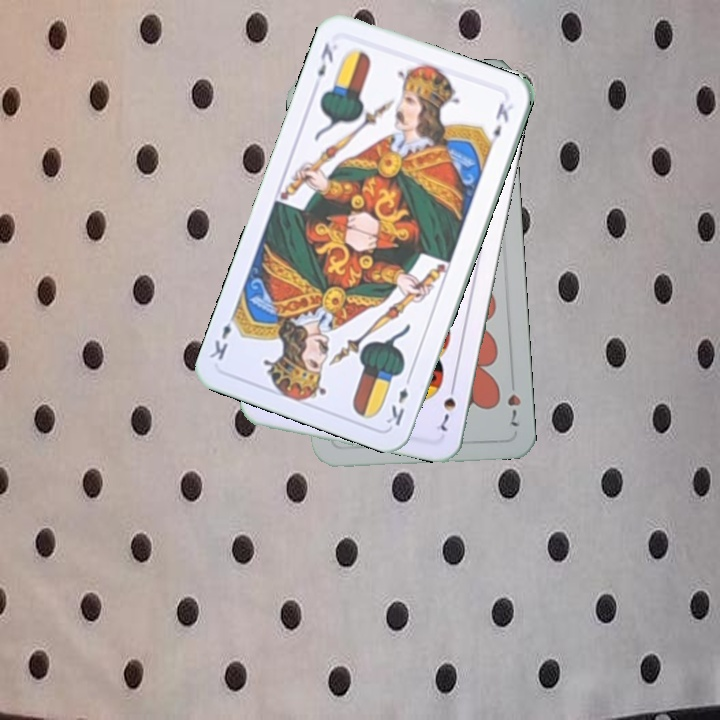EK: (382, 371, 415, 429), (313, 38, 336, 79)
H7: (503, 373, 524, 431)
S7: (432, 378, 458, 434)
